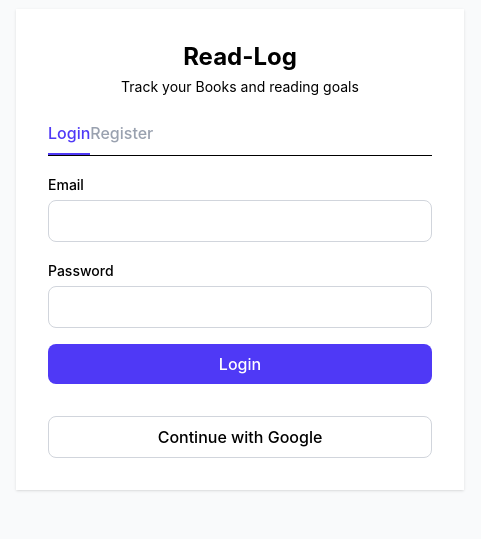
Test: Login page › shows an error for a wrong password
Type "test@example.com" into the field labelled "Email".
click(240, 220); type("test@example.com")  # box [48,200,432,242]
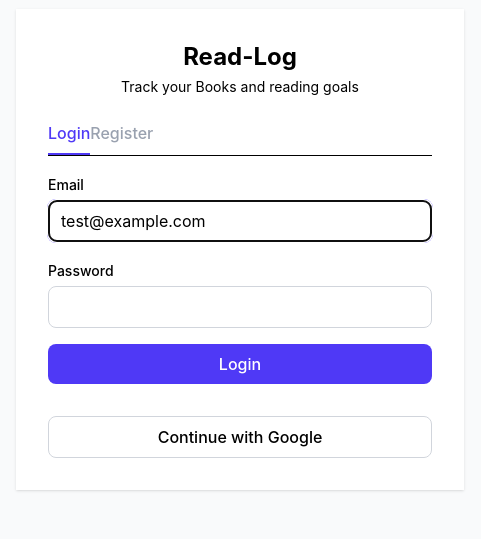
Type "wrongpass" into the password field labelled "Password".
click(240, 306); type("wrongpass")  # box [48,286,432,328]
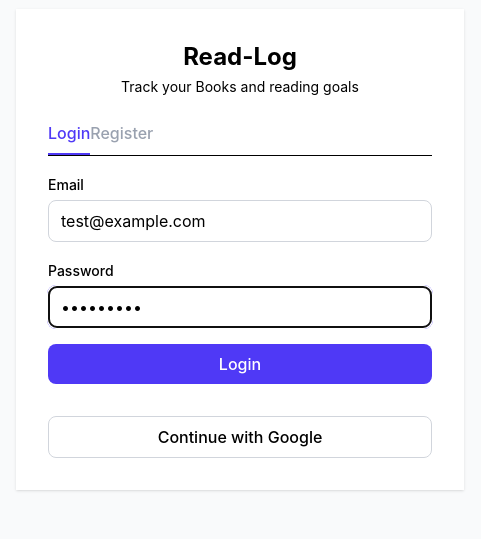
Click the button "Login".
click(240, 364)  # box [48,344,432,384]
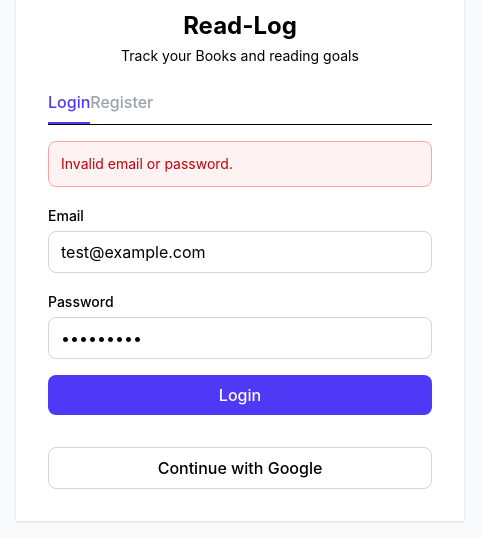
Result: the text "Invalid email or password." is shown at [48,140,432,186]
